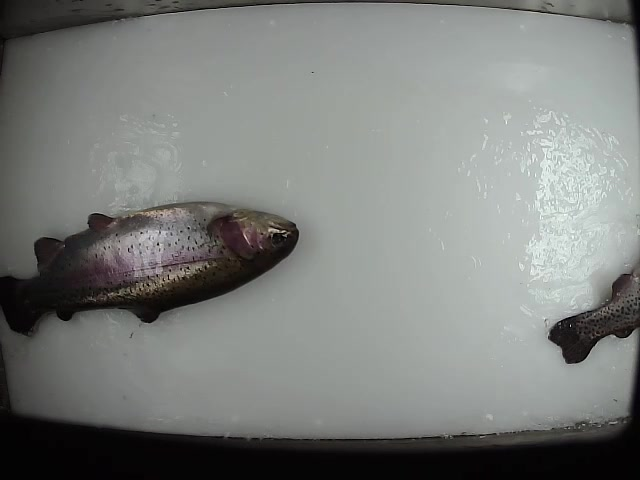fish: (1, 200, 300, 339), (544, 261, 640, 367)
